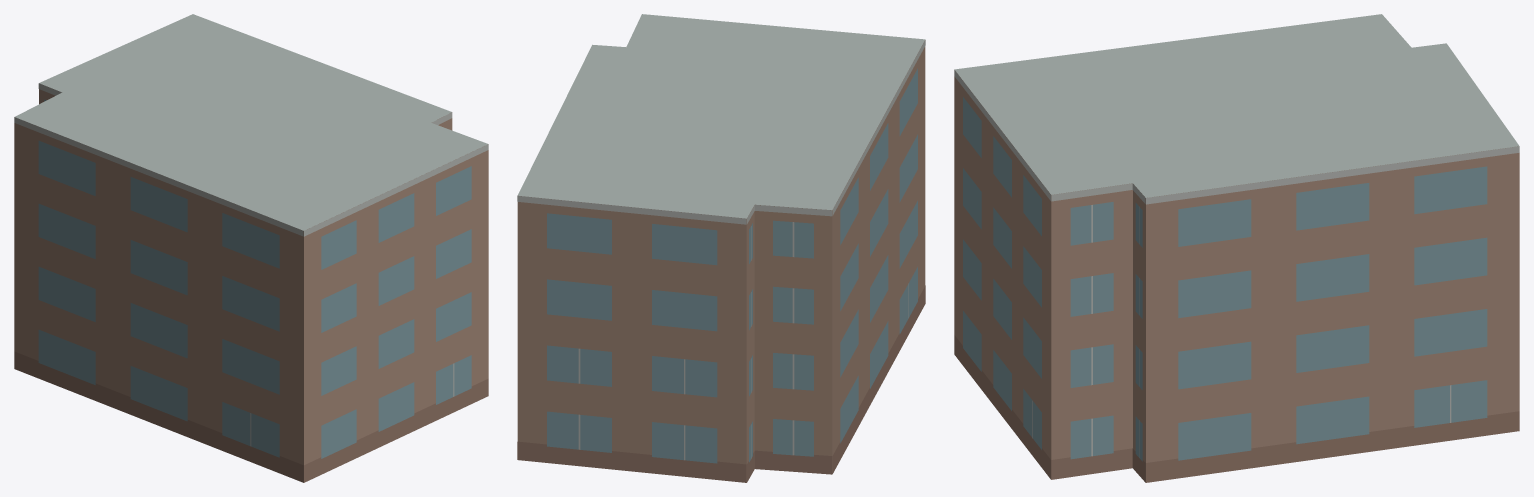
File: survey-upis-32857904.glb
3 views of the same model, side by side, from view 1: azimuth 30°, elevation 25°; view 2: azimuth 150°, elevation 25°; view 3: azimuth 270°, elevation 25° (orthographic). The views are drawn at different scales.
Parts seen in each view (by area): view 1: survey-upis-32857904.tmp; view 2: survey-upis-32857904.tmp; view 3: survey-upis-32857904.tmp.
Part boxes in pixels (bbox=[...]): survey-upis-32857904.tmp: bbox=[14, 14, 488, 482]; survey-upis-32857904.tmp: bbox=[517, 14, 925, 482]; survey-upis-32857904.tmp: bbox=[954, 14, 1519, 482].
Bounding box in the file's own units: 14.55 × 10.5 × 18.89.
